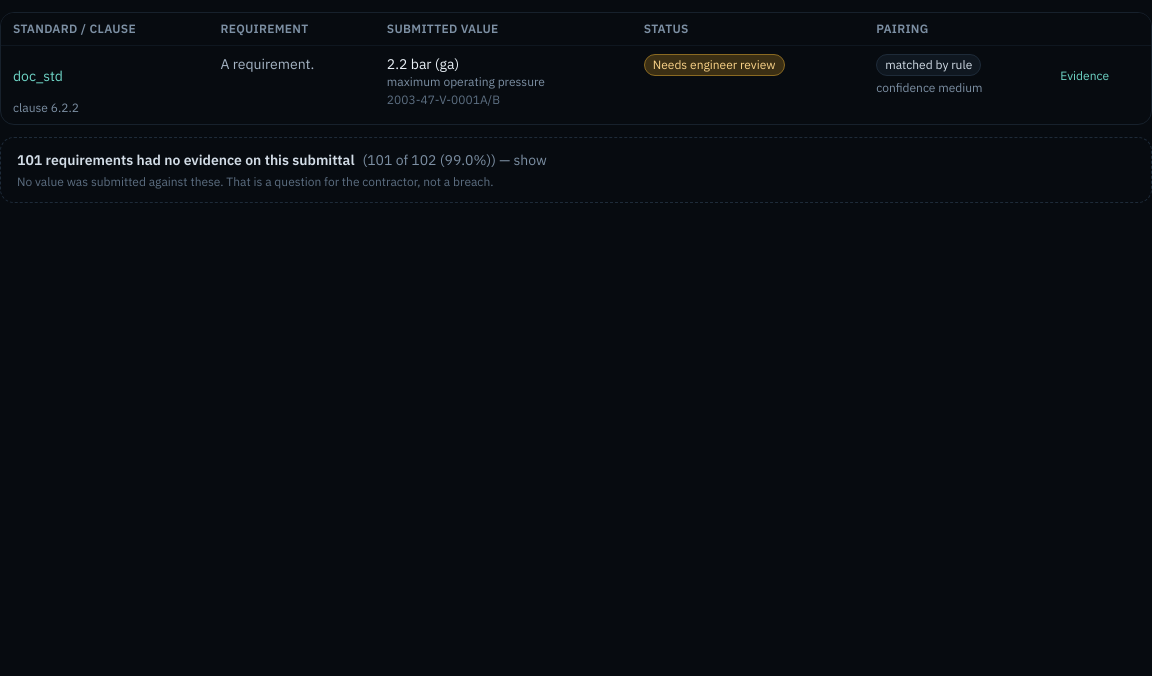
Test: what a reviewer sees first › opens them on request - collapsed is not hidden
Click the text "101 requirements had no evidence on this submittal": (30, 160) [17,151,354,169]
(page scrolled)
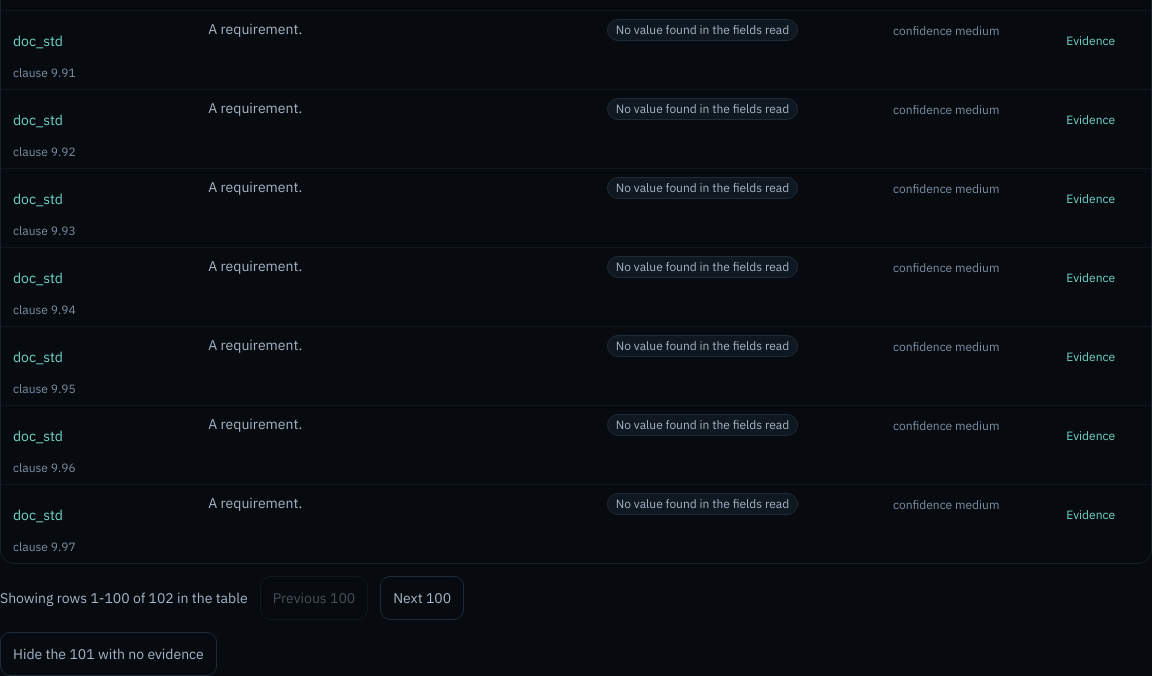
Check: the button "Hide the 101 with no evidence" is shown, box [0,632,217,675]
